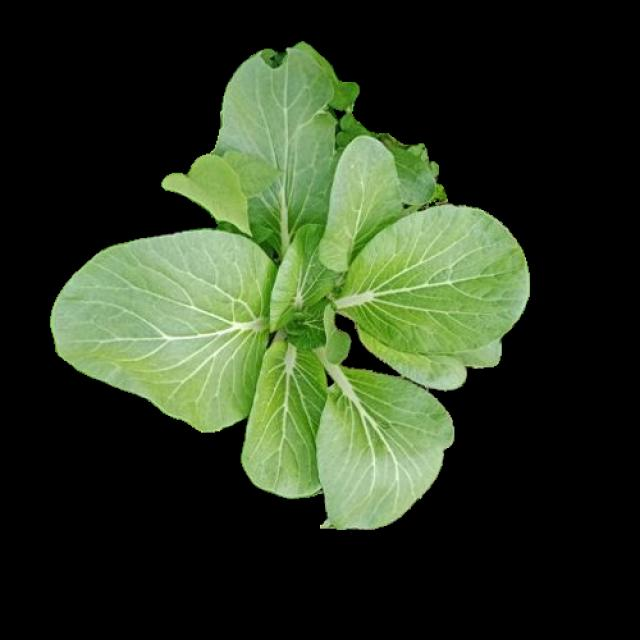mature: (53, 41, 526, 523)
unhealthy: (217, 40, 443, 225)
